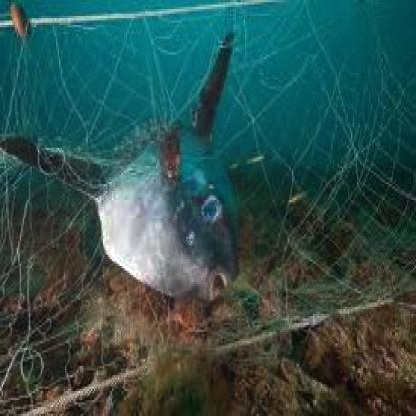net: (249, 4, 416, 320)
